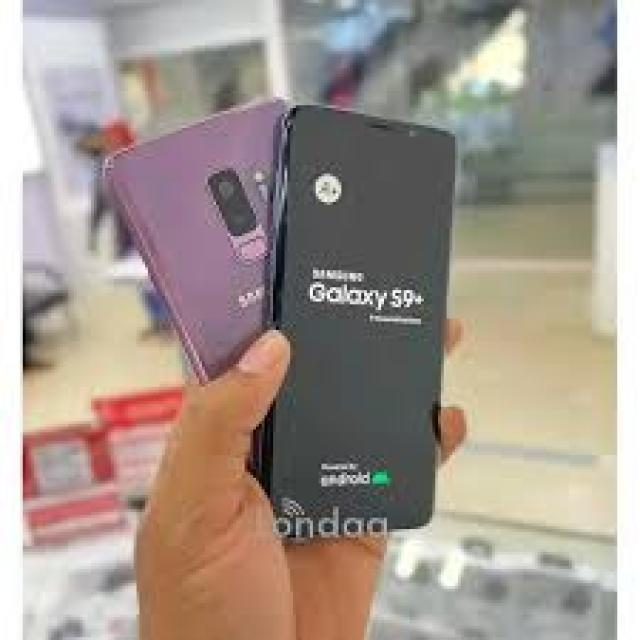mobile phone: (253, 100, 455, 540), (100, 94, 287, 384)
